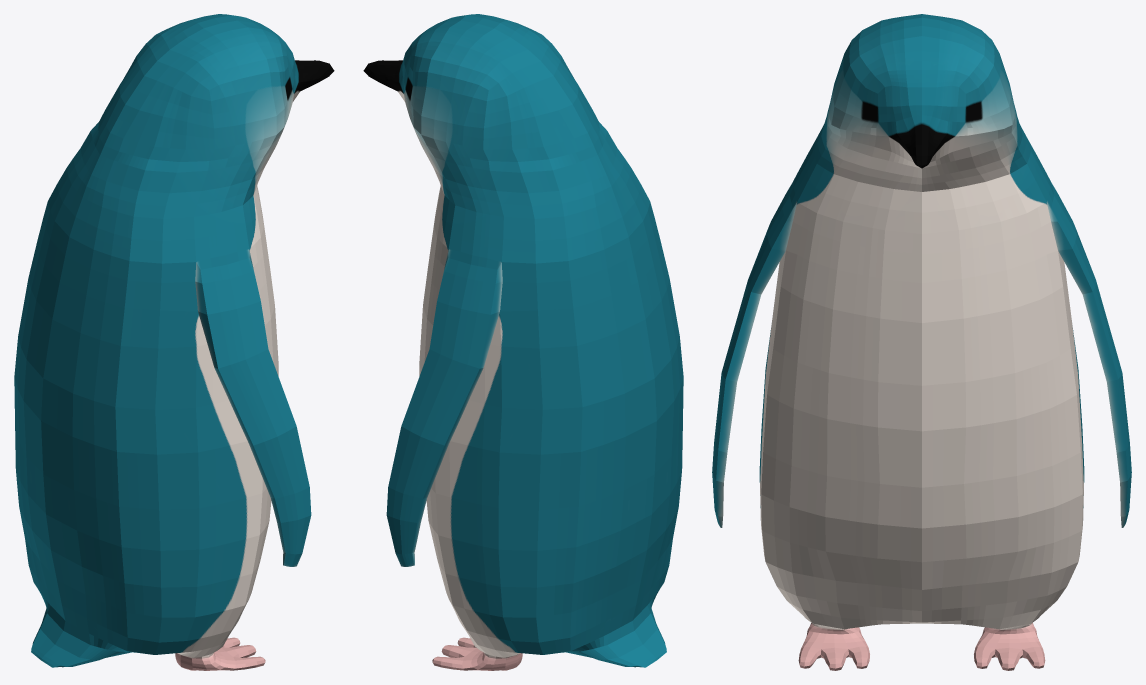
File: penguin.fbx
3 views of the same model, side by side, from view 1: azimuth 30°, elevation 25°; view 2: azimuth 150°, elevation 25°; view 3: azimuth 270°, elevation 25° (orthographic). The views are drawn at different scales.
Visible parts, largest first — view 1: Плоскость; view 2: Плоскость; view 3: Плоскость.
Boxes of the visible parts, x1,y1,x2,y2 form: Плоскость: (14,14,334,670); Плоскость: (363,14,683,670); Плоскость: (712,14,1131,670).
Bounding box in the file's own units: 175 × 343 × 200.
1 material, 1 textured.
